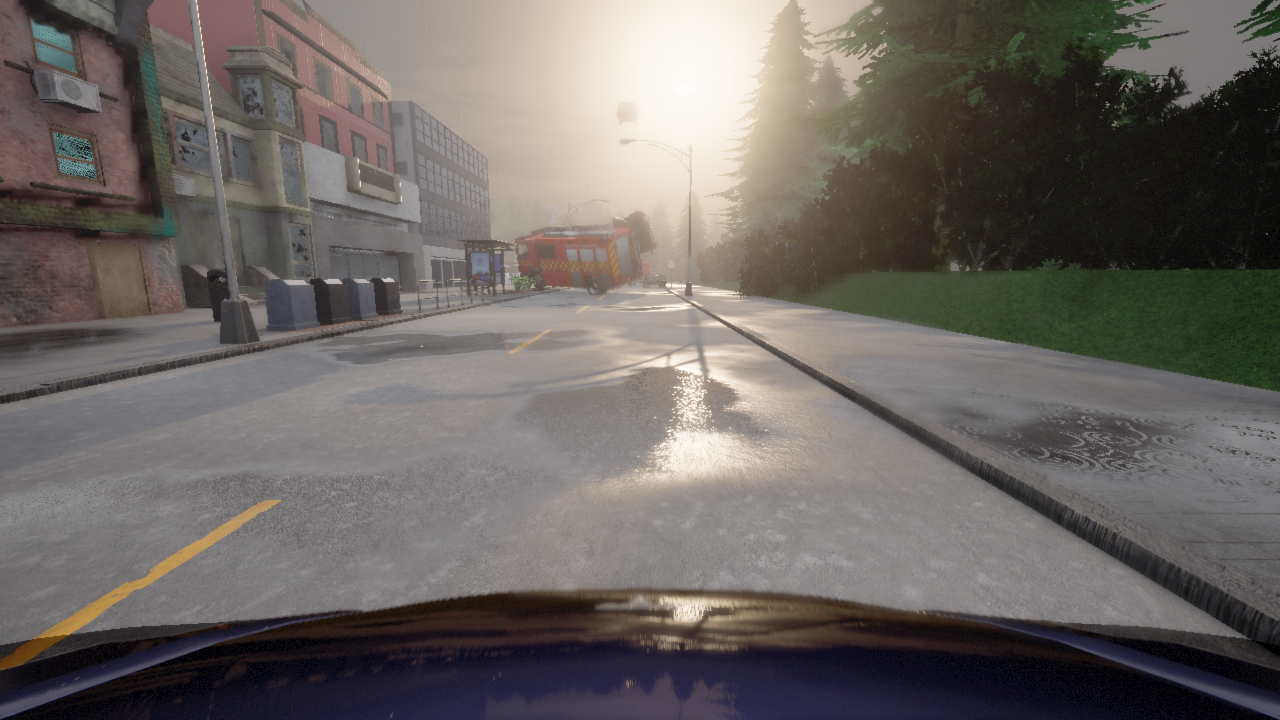cyclist: (0, 588, 1279, 719), (515, 224, 642, 294), (552, 210, 656, 287), (628, 262, 650, 284), (616, 102, 637, 125), (642, 272, 666, 287)
